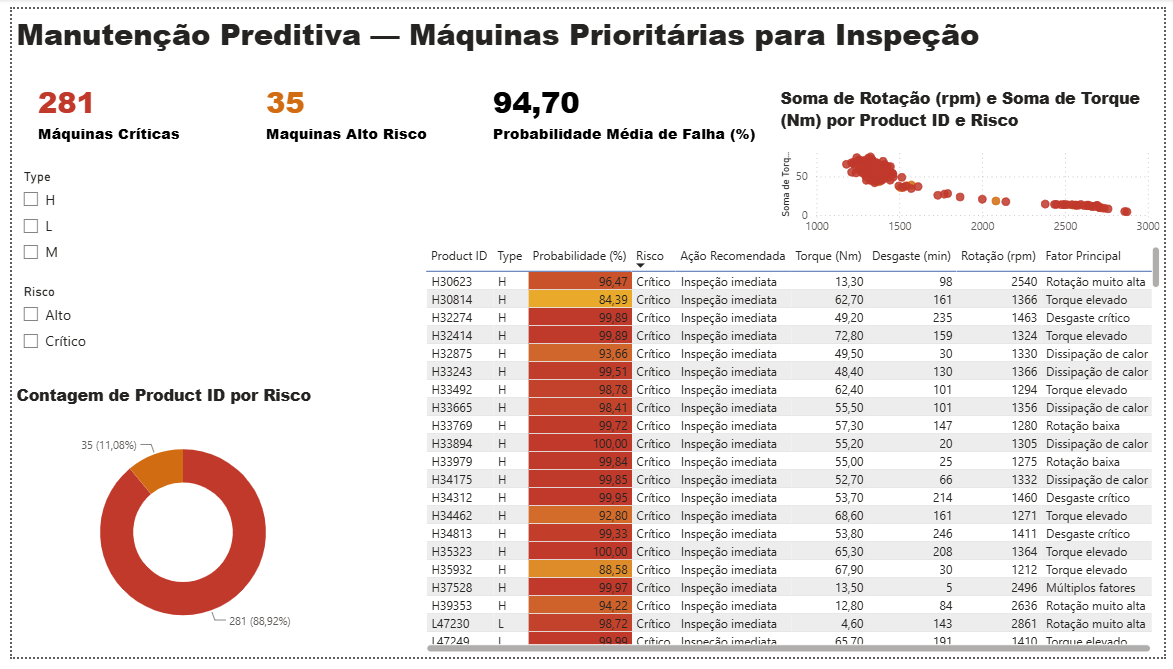

The dashboard page shown, as its layout file describes it:
{"tool":"powerbi","page":{"name":"Predictive Maintenance","canvas":[1280,720],"ordinal":1},"visuals":[{"type":"tableEx","fields":{"Values":["dashboard_dataset.Product ID","dashboard_dataset.Type","Sum(dashboard_dataset.probabilidade_pct)","dashboard_dataset.risco","dashboard_dataset.Acao Recomendada","Sum(dashboard_dataset.Torque_Nm)","Sum(dashboard_dataset.Tool wear_min)","Sum(dashboard_dataset.Rotational speed_rpm)","dashboard_dataset.Fator Principal"]},"box":[454.4,258.9,825.6,461.1],"z":0},{"type":"cardVisual","fields":{"Data":["dashboard_dataset.Maquinas Criticas"]},"box":[0,60,253,110],"z":1000},{"type":"cardVisual","fields":{"Data":["dashboard_dataset.Maquinas Alto Risco"]},"box":[253,60,253,110],"z":2000},{"type":"donutChart","fields":{"Category":["dashboard_dataset.risco"],"Y":["CountNonNull(dashboard_dataset.Product ID)"]},"box":[0,416.7,380,294.4],"z":3000},{"type":"slicer","fields":{"Values":["dashboard_dataset.Type"]},"box":[0,173,199,172],"z":4000},{"type":"slicer","fields":{"Values":["dashboard_dataset.risco"]},"box":[0,301.1,198.9,107.8],"z":5000},{"type":"textbox","box":[0,0,1192,76],"z":6000},{"type":"cardVisual","fields":{"Data":["dashboard_dataset.Prob Media Falha"]},"box":[506,60,363,110],"z":7000},{"type":"scatterChart","fields":{"X":["Sum(dashboard_dataset.Rotação (rpm))"],"Y":["Sum(dashboard_dataset.Torque (Nm))"],"Series":["dashboard_dataset.Risco"],"Category":["dashboard_dataset.Product ID"]},"box":[848.9,86.7,431.1,173.3],"z":7001}]}

Visuals, with their boxes in screenshot pixels (x1, y1, x2, y2), scaled from the page's 1280x720 canvas onto the 1173x669 screenshot:
tableEx - dashboard_dataset.Product ID x dashboard_dataset.Type: x1=416, y1=241, x2=1172, y2=668
cardVisual - dashboard_dataset.Maquinas Criticas: x1=0, y1=56, x2=232, y2=158
cardVisual - dashboard_dataset.Maquinas Alto Risco: x1=232, y1=56, x2=464, y2=158
donutChart - dashboard_dataset.risco x CountNonNull(dashboard_dataset.Product ID): x1=0, y1=387, x2=348, y2=661
slicer - dashboard_dataset.Type: x1=0, y1=161, x2=182, y2=321
slicer - dashboard_dataset.risco: x1=0, y1=280, x2=182, y2=380
textbox: x1=0, y1=0, x2=1092, y2=71
cardVisual - dashboard_dataset.Prob Media Falha: x1=464, y1=56, x2=796, y2=158
scatterChart - Sum(dashboard_dataset.Rotação (rpm)) x Sum(dashboard_dataset.Torque (Nm)): x1=778, y1=81, x2=1172, y2=242
